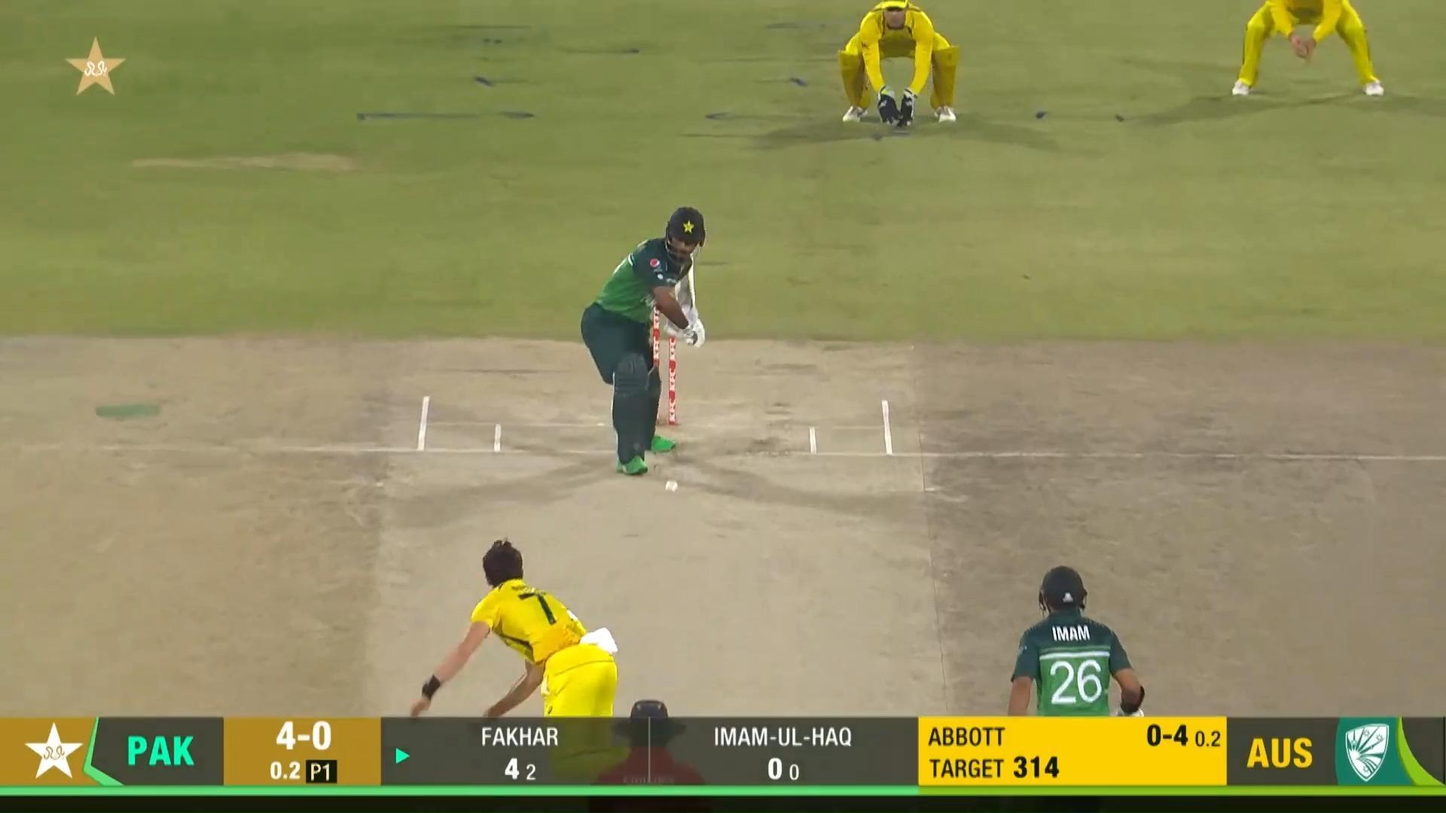BM 1: (580, 205, 708, 477)
BO: (411, 537, 619, 718)
